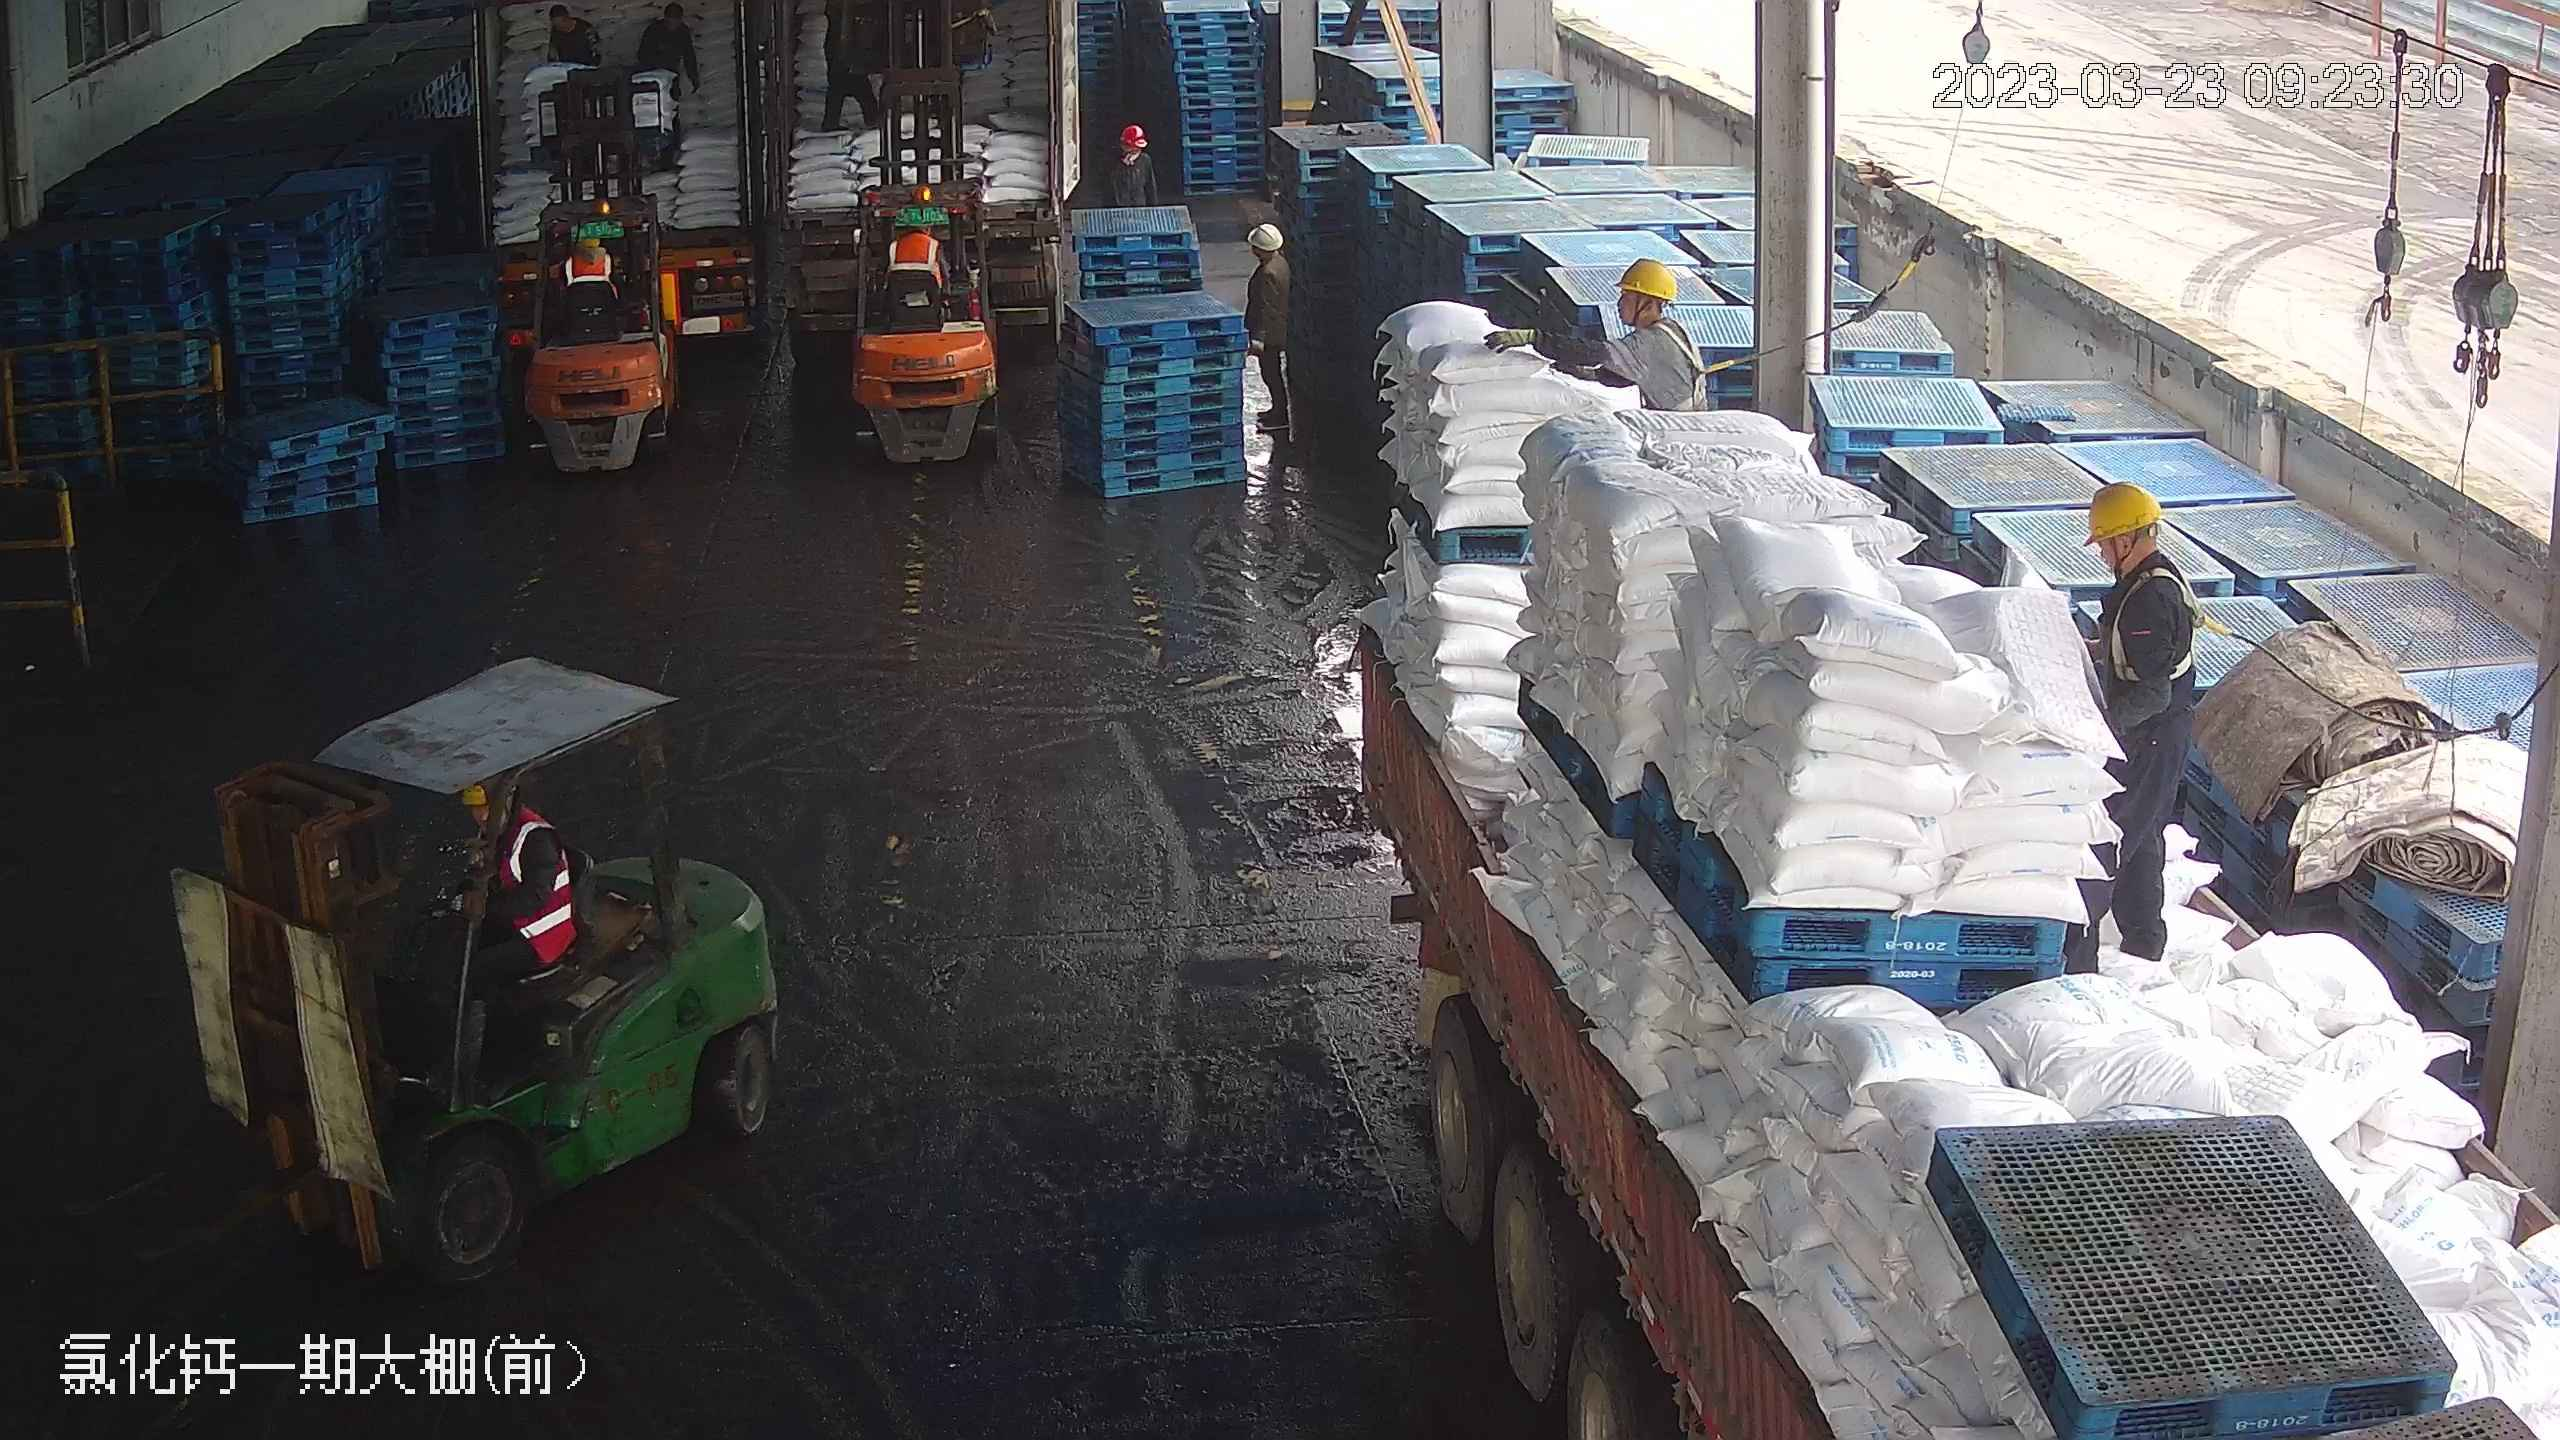belt: (2106, 560, 2211, 680), (1631, 313, 1718, 408)
head: (2075, 477, 2199, 626), (1608, 255, 1710, 367), (1103, 118, 1157, 189), (1241, 222, 1288, 295), (543, 1, 598, 60), (641, 5, 696, 60)
helmet: (2078, 478, 2163, 541), (1609, 255, 1678, 301), (1247, 223, 1285, 249), (1116, 119, 1146, 145)
people: (2072, 481, 2199, 971), (1245, 217, 1290, 443)
truck: (1313, 139, 2534, 1439)
